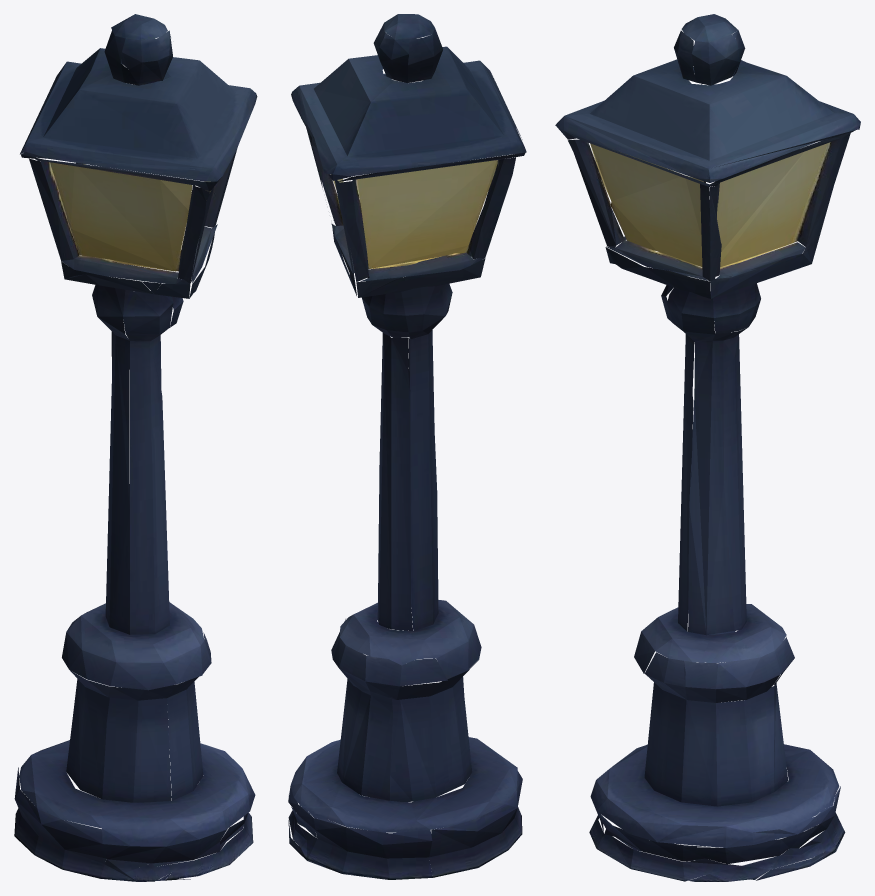
File: lamp_post1.glb
3 views of the same model, side by side, from view 1: azimuth 30°, elevation 25°; view 2: azimuth 150°, elevation 25°; view 3: azimuth 270°, elevation 25° (orthographic).
Parts seen in each view (by area): view 1: geometry_0; view 2: geometry_0; view 3: geometry_0.
Part boxes in pixels (x1,y1,x2,y2): geometry_0: (14,14,257,881); geometry_0: (288,14,526,879); geometry_0: (555,14,860,881).
Bounding box in the file's own units: 0.3074 × 1 × 0.3403.
1 material, 1 textured.
